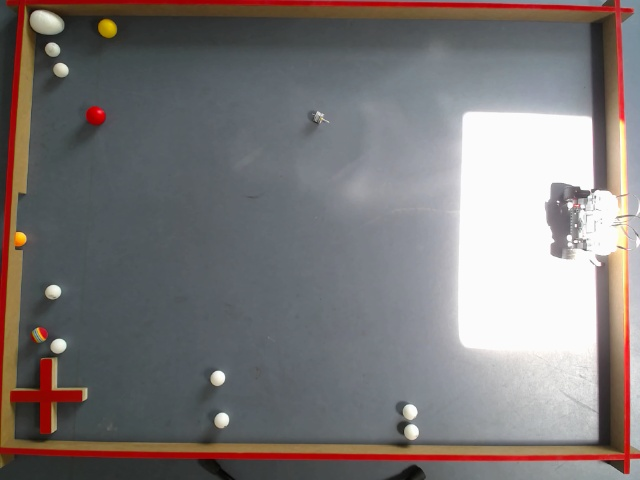big_goal: (1, 191, 26, 251)
cross: (10, 357, 88, 434)
egg: (28, 6, 64, 36)
orange: (14, 231, 27, 245)
wall: (6, 0, 634, 23), (0, 438, 638, 459), (602, 0, 630, 473)
white: (402, 402, 418, 420), (402, 423, 418, 440), (52, 62, 68, 78), (44, 41, 60, 57), (44, 284, 60, 300), (208, 369, 224, 384), (50, 339, 67, 353), (215, 413, 230, 428)
